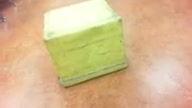cube: (43, 1, 127, 87)
